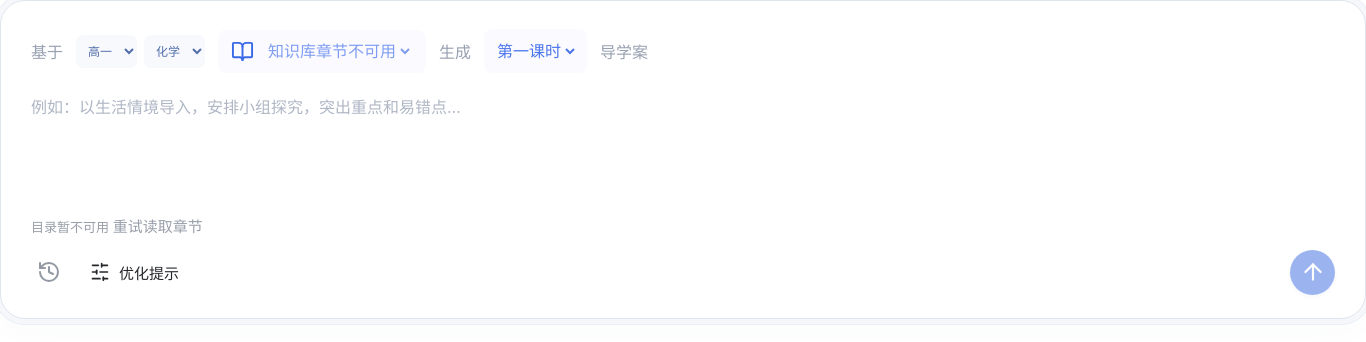
Test: failed chapter reads cannot fall back to old topics and support retry
The image size is (1366, 342).
expect the text "目录暂不可用 重试读取章节" is shown: met, box [31,210,203,244]
expect the button named "生成导学案" is disabled: met, box [1290,250,1335,294]
Step 1. Click the button "重试读取章节" → click(158, 227), box [113,210,203,244]
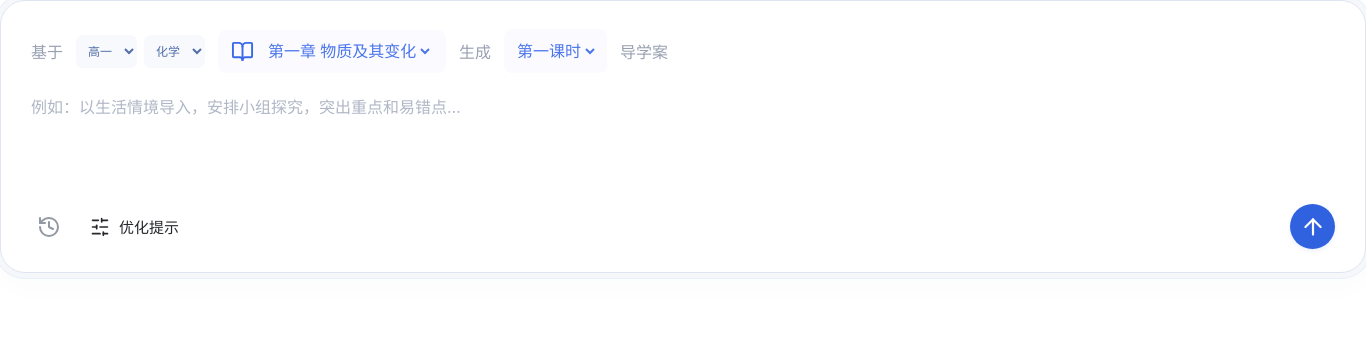
expect the dropdown named "章节 / 知识点" shows "第一章 物质及其变化": met, box [264,40,433,62]
